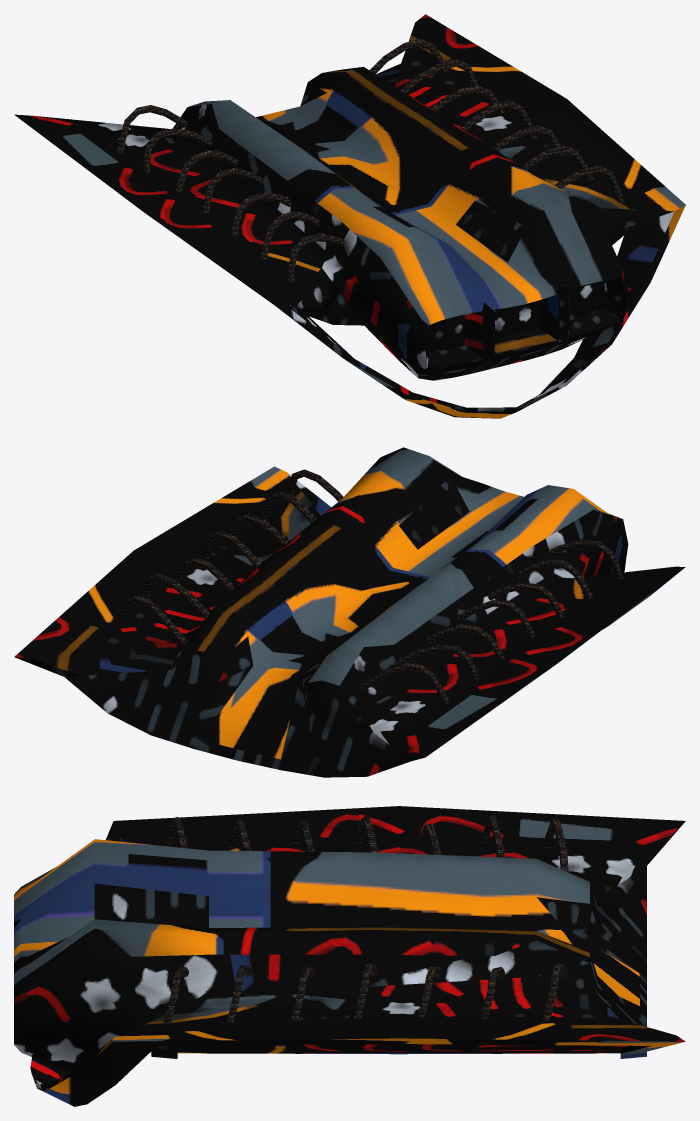
File: Flatbed_Mather_NoTurrets.FBX
The picture shows the model from 3 angles, top to bottom: view 1: azimuth 30°, elevation 25°; view 2: azimuth 150°, elevation 25°; view 3: azimuth 270°, elevation 25°; orthographic projection. The views are drawn at different scales.
Parts seen in each view (by area): view 1: Flatbed; view 2: Flatbed; view 3: Flatbed.
Boxes of the visible parts, x1,y1,x2,y2 form: Flatbed: [14, 14, 685, 418]; Flatbed: [14, 447, 685, 777]; Flatbed: [14, 806, 685, 1106].
Bounding box in the file's own units: 2.67 × 1.13 × 3.26.
